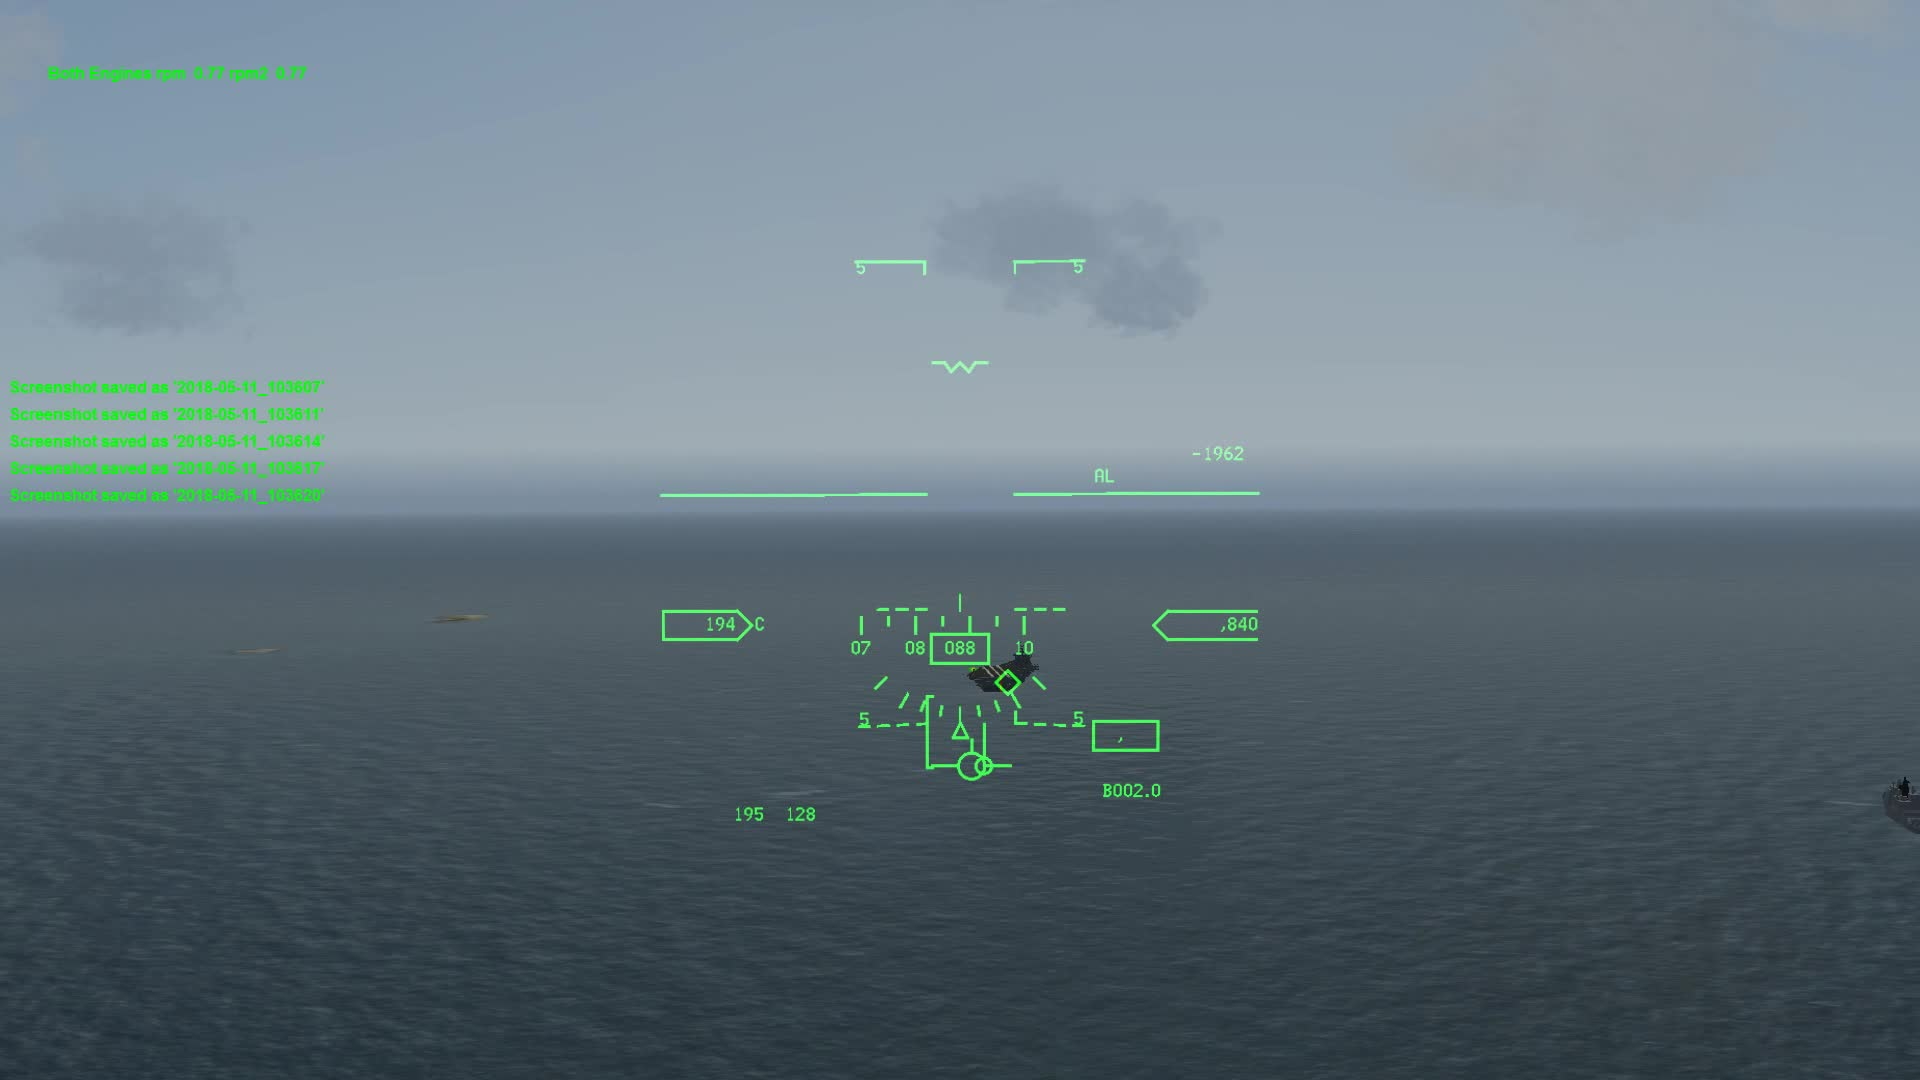speed vector: (927, 754, 1015, 785)
